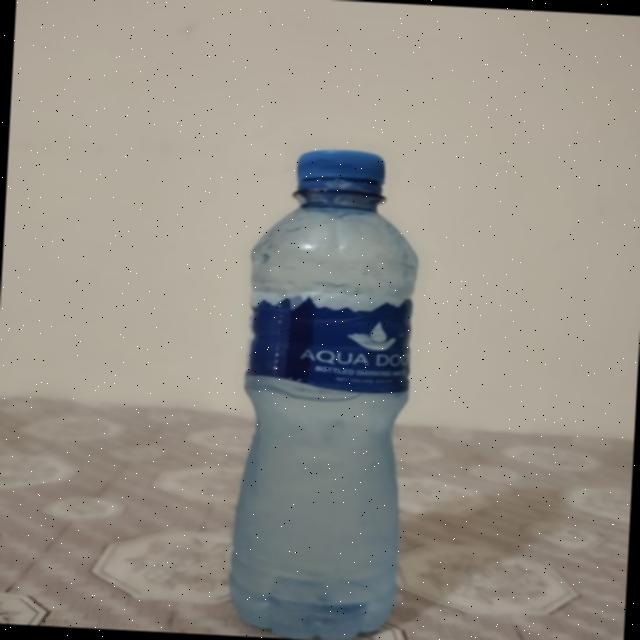bottle: (226, 141, 427, 640)
cap: (284, 144, 398, 200)
label: (240, 290, 424, 400)
